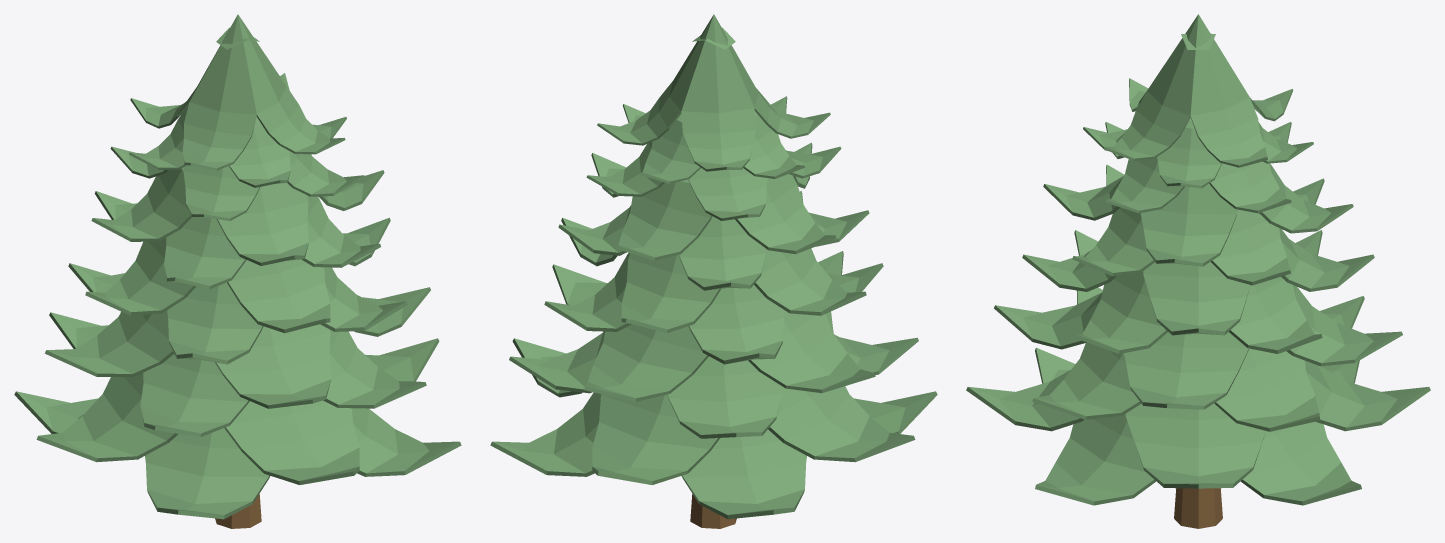
File: PineTree.fbx
The picture shows the model from 3 angles, left to right: view 1: azimuth 30°, elevation 25°; view 2: azimuth 150°, elevation 25°; view 3: azimuth 270°, elevation 25°; orthographic projection.
Visible parts, largest first — view 1: PineTree; view 2: PineTree; view 3: PineTree.
Part boxes in pixels (<box>): PineTree: <box>14,14,461,528</box>; PineTree: <box>490,14,937,528</box>; PineTree: <box>966,14,1430,528</box>.
Bounding box in the file's own units: 579 × 693 × 579.
